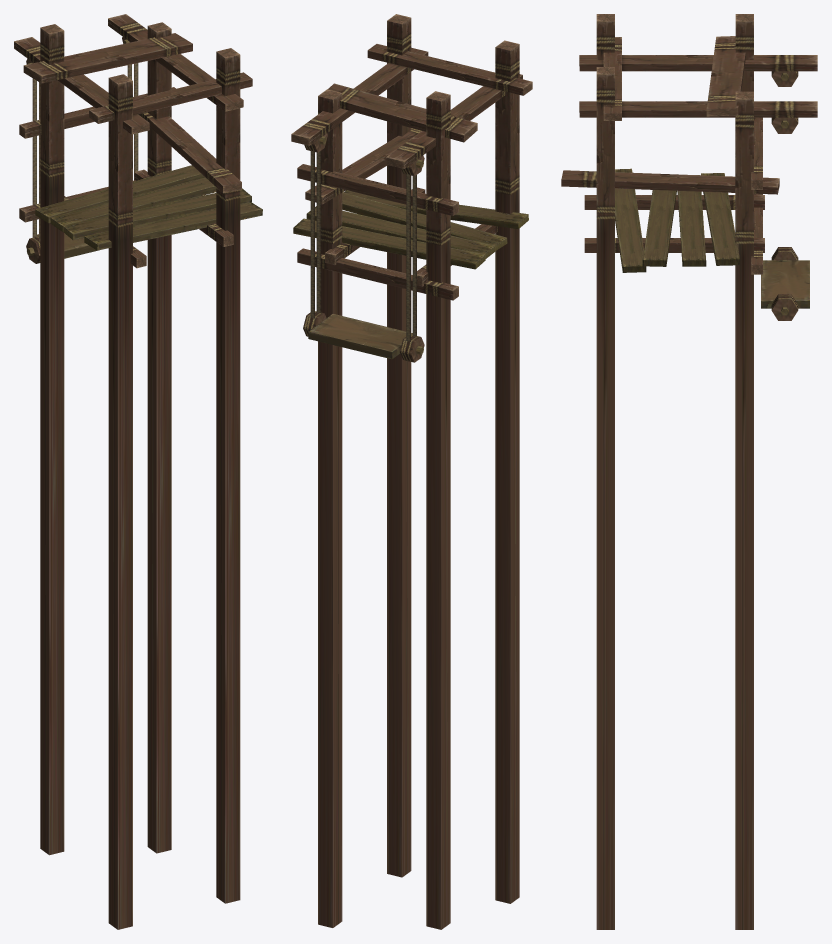
File: bfcs_mujia_02.FBX
3 renders of one model, left to right at view 1: azimuth 30°, elevation 25°; view 2: azimuth 150°, elevation 25°; view 3: azimuth 270°, elevation 25°, orthographic.
Visible parts, largest first — view 1: bfcs_mujia_02; view 2: bfcs_mujia_02; view 3: bfcs_mujia_02.
Boxes of the visible parts, x1,y1,x2,y2 form: bfcs_mujia_02: [14, 14, 262, 929]; bfcs_mujia_02: [291, 14, 532, 929]; bfcs_mujia_02: [561, 14, 817, 929].
Size of the model in its own units: 114 by 518 by 140.
